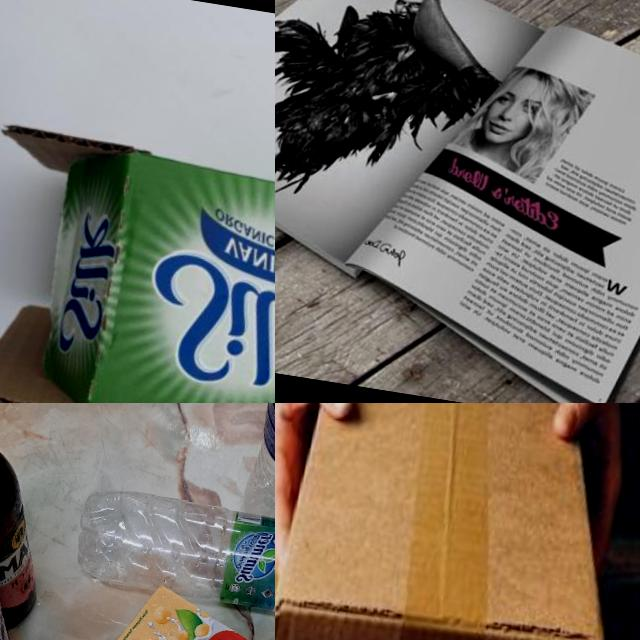caixinha: (101, 579, 275, 640)
garrafa de vidro: (0, 416, 63, 630)
garrafa plástica: (67, 490, 275, 625), (235, 403, 275, 545)
papel: (275, 0, 640, 403)
papelão: (275, 403, 640, 640), (0, 119, 275, 403)
